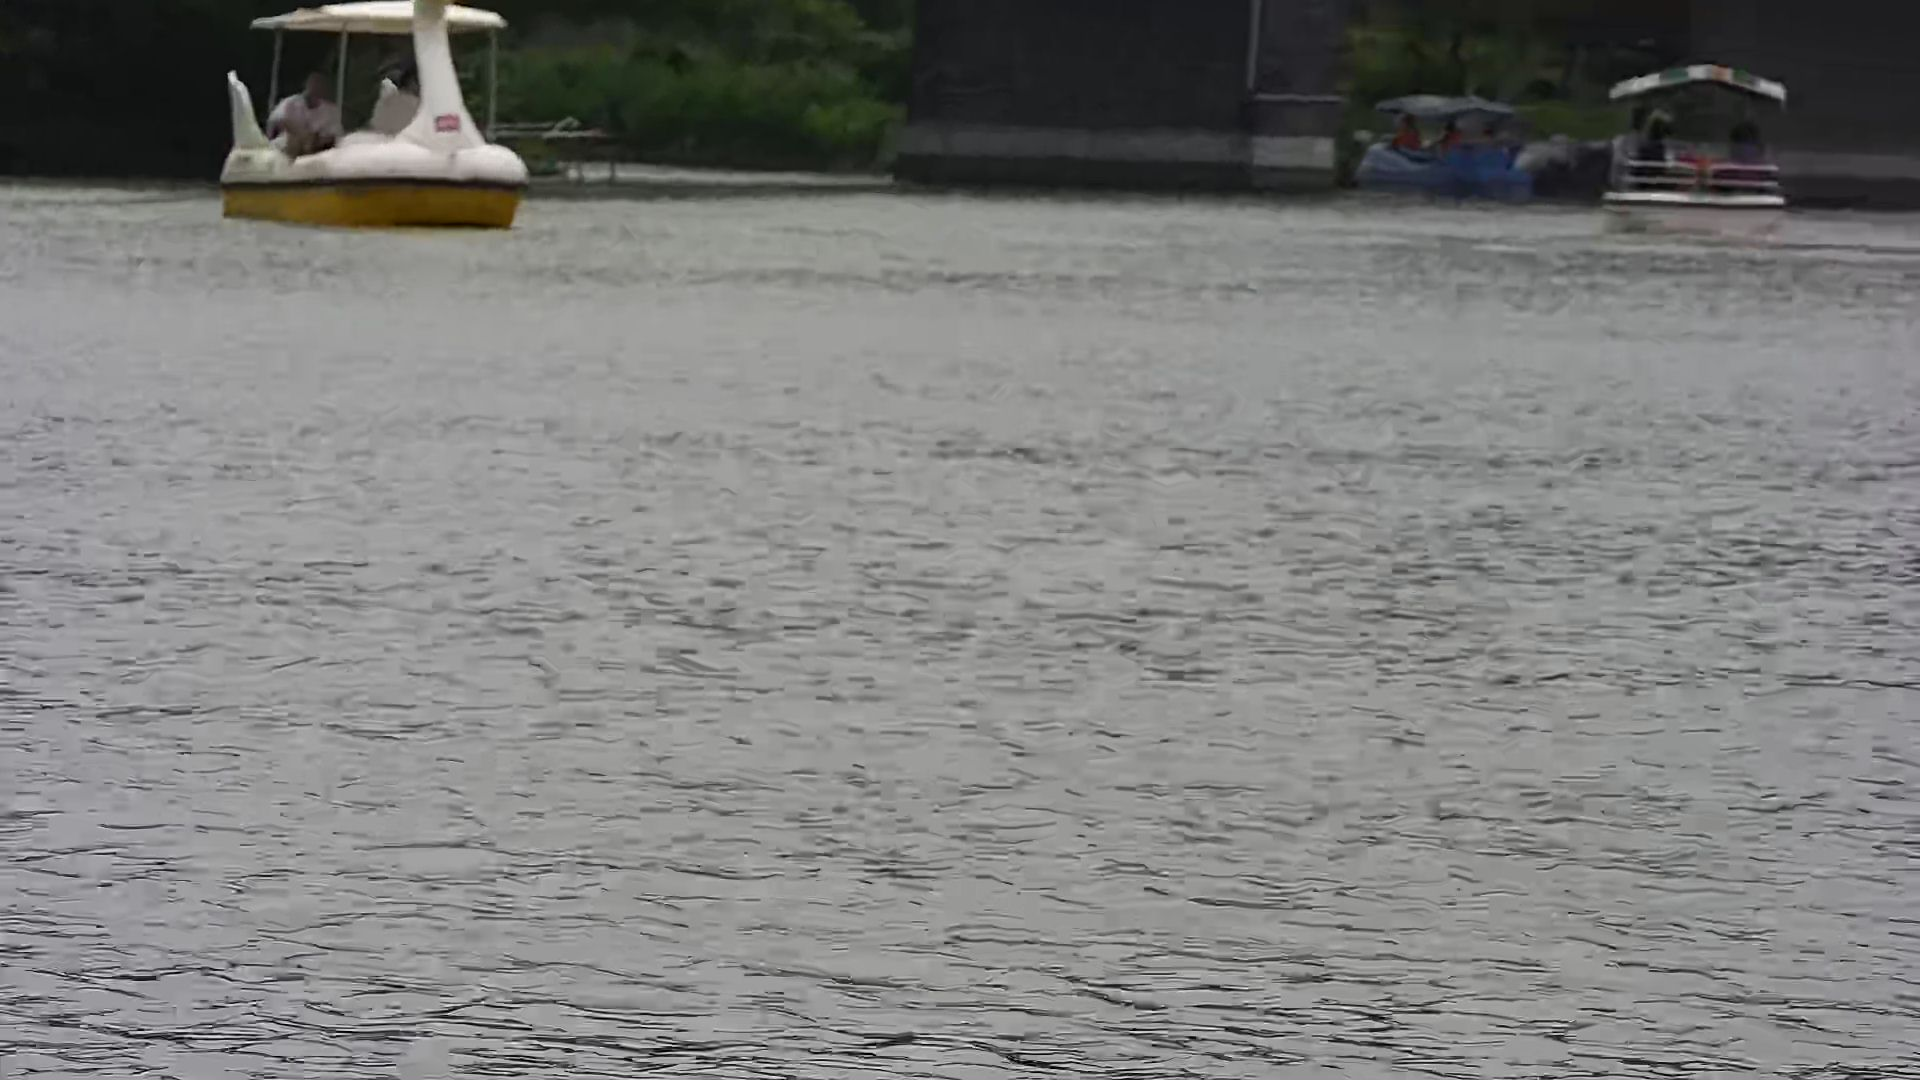boat: (224, 7, 537, 229), (1584, 53, 1807, 248), (1360, 88, 1534, 198)
